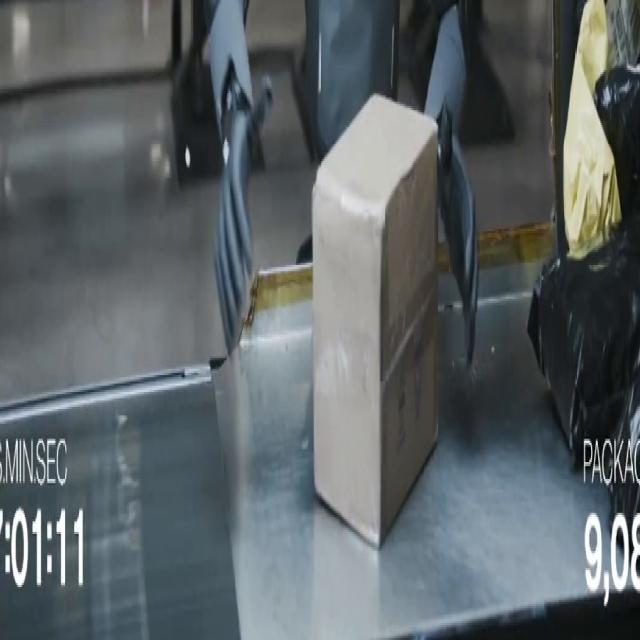package: (313, 96, 437, 546), (528, 217, 639, 464), (563, 0, 621, 256), (595, 66, 639, 216), (603, 378, 639, 534), (606, 0, 639, 67)
